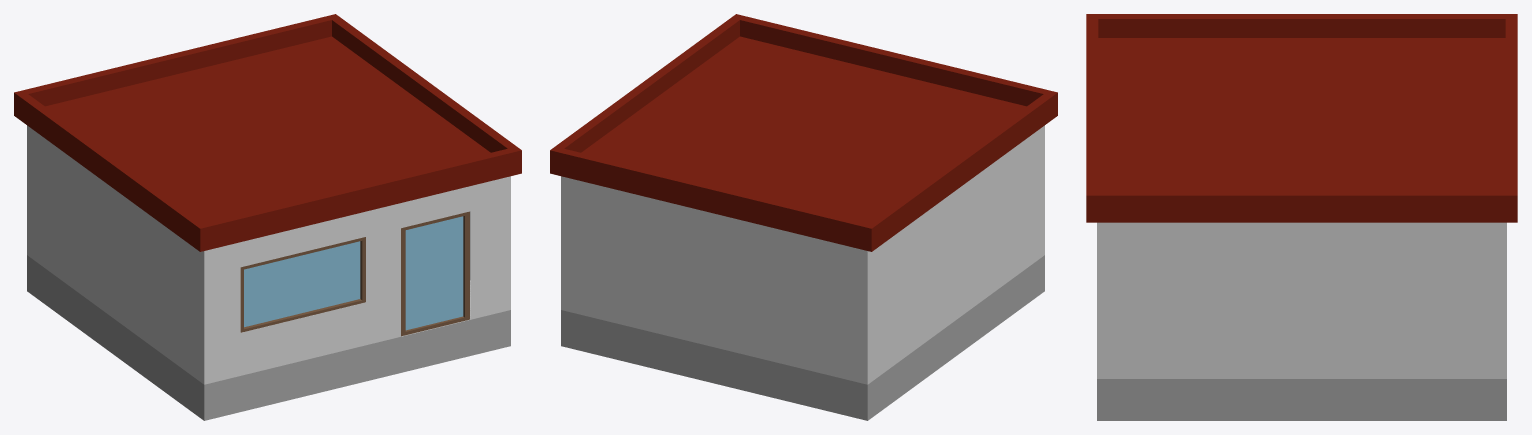
Rendered from building_1.fbx.
The picture shows the model from 3 angles, left to right: view 1: azimuth 30°, elevation 25°; view 2: azimuth 150°, elevation 25°; view 3: azimuth 270°, elevation 25°; orthographic projection. The views are drawn at different scales.
Visible parts, largest first — view 1: Cube, Cube.001, Cube.002; view 2: Cube; view 3: Cube.
Boxes of the visible parts, <box> form: Cube: <box>14,14,521,420</box>; Cube.001: <box>240,237,365,332</box>; Cube.002: <box>401,211,469,336</box>; Cube: <box>550,14,1057,420</box>; Cube: <box>1086,14,1517,420</box>.
Bounding box in the file's own units: 583 × 342 × 585.
Materials: 1 (1 with a texture image).
